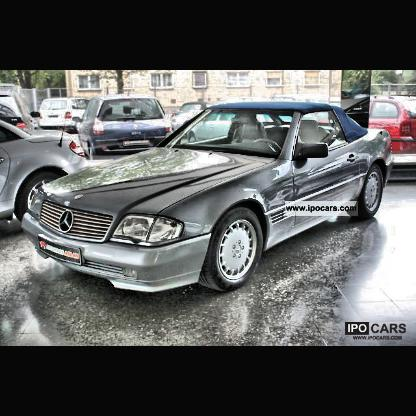Mercedes-Benz 300-Class Convertible 1993: (23, 103, 393, 293)
